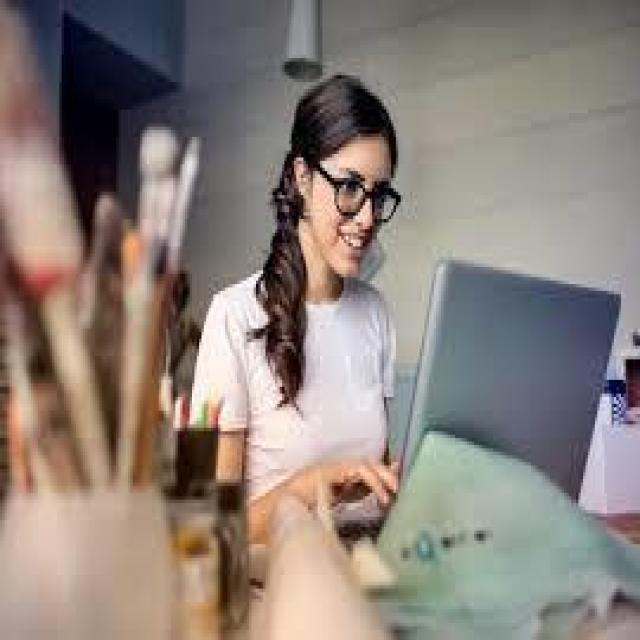person: (142, 55, 514, 558)
